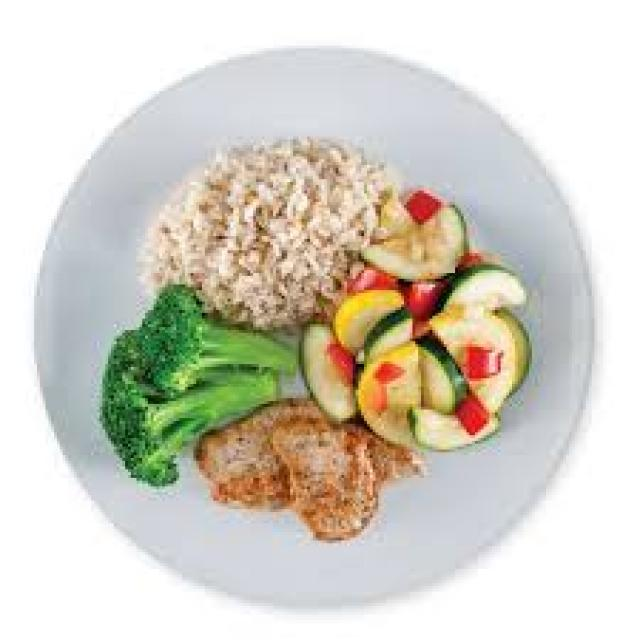Chicken: (199, 398, 418, 538)
Green veg: (302, 188, 526, 447), (100, 284, 296, 484)
Rice: (145, 139, 395, 327)
